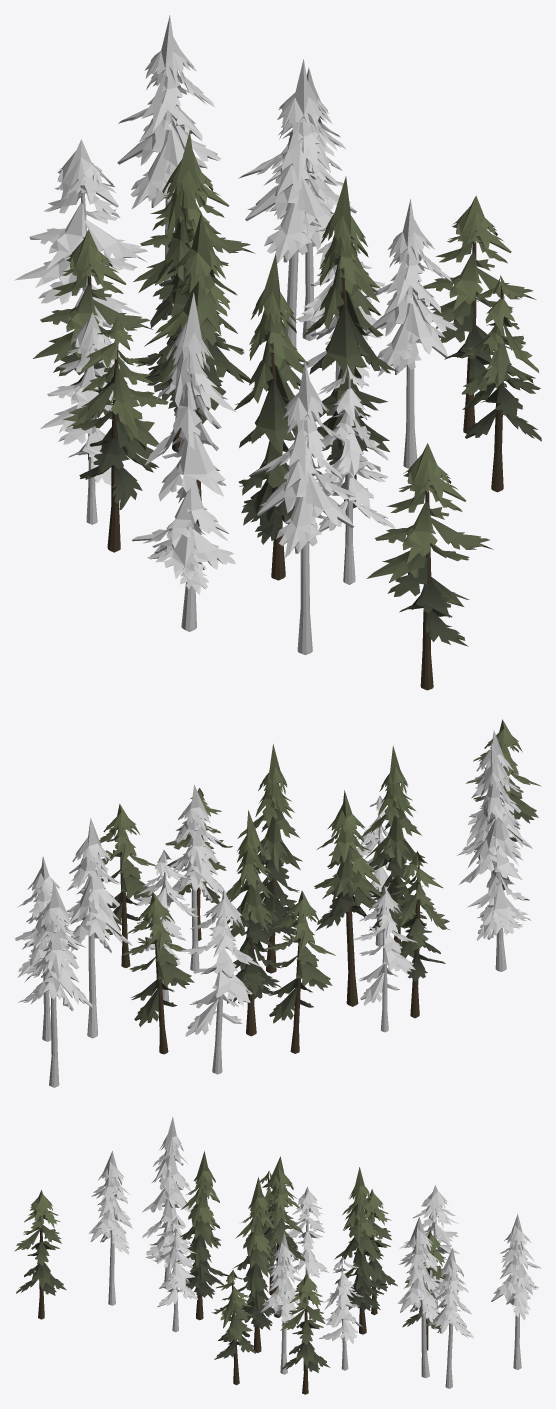
File: SM_Env_Tree_Pine_Group_02.fbx
The picture shows the model from 3 angles, top to bottom: view 1: azimuth 30°, elevation 25°; view 2: azimuth 150°, elevation 25°; view 3: azimuth 270°, elevation 25°; orthographic projection. The views are drawn at different scales.
Visible parts, largest first — view 1: SM_Env_Tree_Pine_Group_02; view 2: SM_Env_Tree_Pine_Group_02; view 3: SM_Env_Tree_Pine_Group_02.
Part boxes in pixels (bbox=[...]): SM_Env_Tree_Pine_Group_02: bbox=[14, 15, 541, 690]; SM_Env_Tree_Pine_Group_02: bbox=[14, 719, 541, 1087]; SM_Env_Tree_Pine_Group_02: bbox=[14, 1116, 541, 1394].
Bounding box in the file's own units: 2192 × 1423 × 3868.
